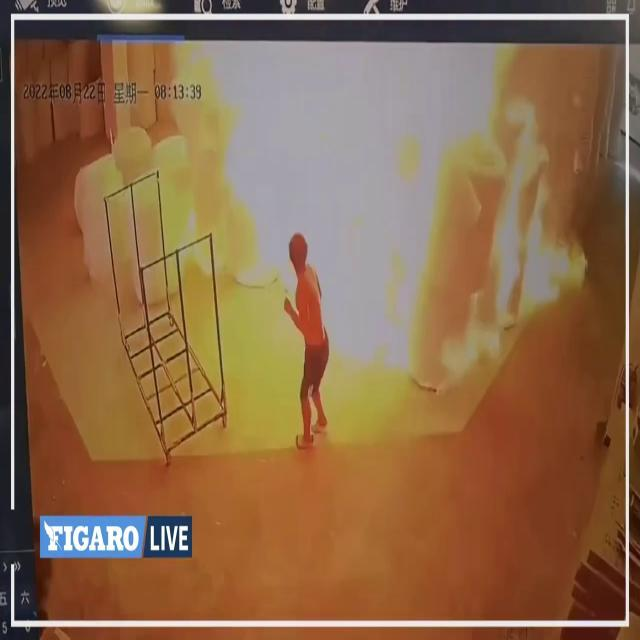Fire: (186, 40, 584, 372)
